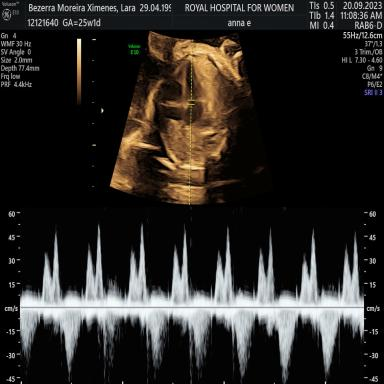Ultrasound-Waves: (24, 207, 362, 383)
